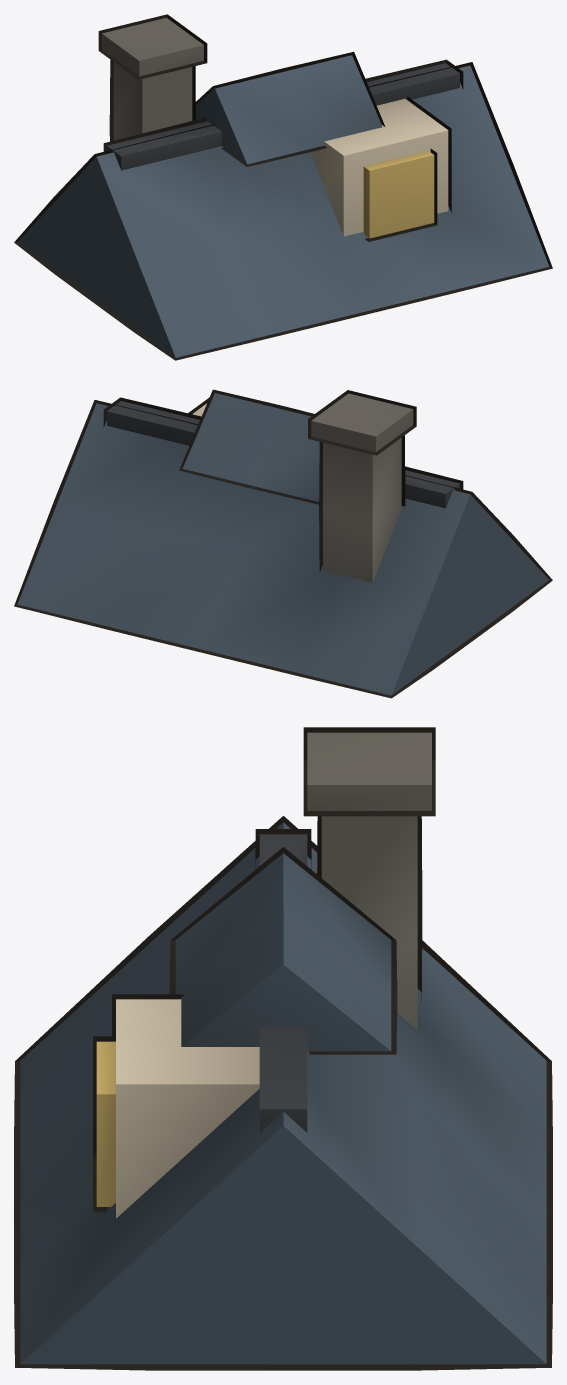
The model's file is toit_lucarne.glb.
The picture shows the model from 3 angles, top to bottom: view 1: azimuth 30°, elevation 25°; view 2: azimuth 150°, elevation 25°; view 3: azimuth 270°, elevation 25°; orthographic projection. The views are drawn at different scales.
Visible parts, largest first — view 1: toit_lucarne, toit_lucarne_outline; view 2: toit_lucarne, toit_lucarne_outline; view 3: toit_lucarne, toit_lucarne_outline.
Part boxes in pixels (<box>): toit_lucarne: <box>18,18,549,357</box>; toit_lucarne_outline: <box>14,14,552,360</box>; toit_lucarne: <box>17,393,549,695</box>; toit_lucarne_outline: <box>14,389,552,698</box>; toit_lucarne: <box>20,732,546,1364</box>; toit_lucarne_outline: <box>14,727,552,1370</box>.
Size of the model in its own units: 1.53 by 0.8721 by 1.13.
